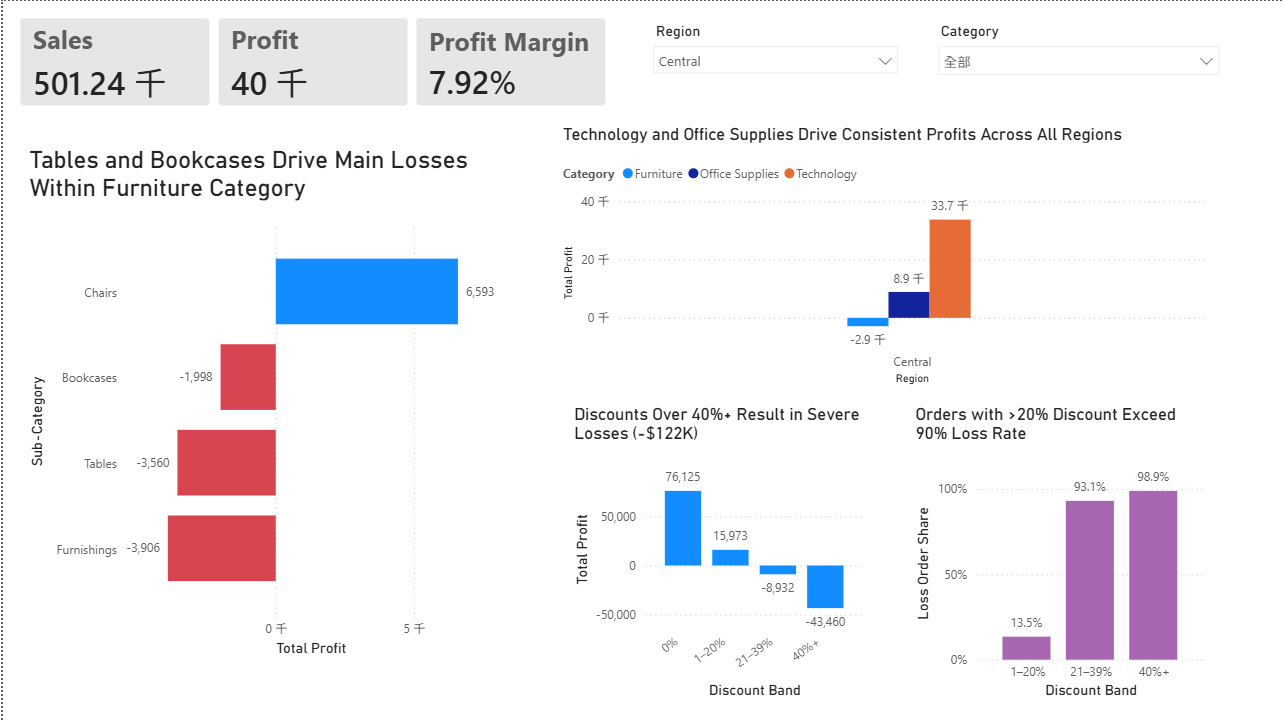

Layout of this report page (visuals, bound fields, positions):
{"tool":"powerbi","page":{"name":"第 2 頁","canvas":[1280,720],"ordinal":0},"visuals":[{"type":"columnChart","title":"Discounts Over 40%+ Result in Severe Losses (-$122K)","fields":{"Category":["SampleSuperstore.Discount Band"],"Y":["Sum(SampleSuperstore.Profit)"]},"box":[532.5,402.5,300,300],"z":0},{"type":"columnChart","title":"Orders with >20% Discount Exceed 90% Loss Rate","fields":{"Category":["SampleSuperstore.Discount Band"],"Y":["SampleSuperstore.Loss Order Share"]},"box":[881.2,402.5,300,300],"z":1000},{"type":"cardVisual","fields":{"Data":["Sum(SampleSuperstore.Sales)","Sum(SampleSuperstore.Profit)","SampleSuperstore.Profit Margin"]},"box":[0,0,620,122.5],"z":2000},{"type":"clusteredColumnChart","title":"Technology and Office Supplies Drive Consistent Profits Across All Regions","fields":{"Category":["SampleSuperstore.Region"],"Y":["Sum(SampleSuperstore.Profit)"],"Series":["SampleSuperstore.Category"]},"box":[555,122.5,652.5,266.2],"z":3000},{"type":"barChart","title":"Tables and Bookcases Drive Main Losses Within Furniture Category","fields":{"Category":["SampleSuperstore.Sub-Category"],"Y":["Sum(SampleSuperstore.Profit)"]},"box":[21.2,145,488.8,515],"z":3001},{"type":"slicer","fields":{"Values":["SampleSuperstore.Region"]},"box":[640,16.2,265,90],"z":3002},{"type":"slicer","fields":{"Values":["SampleSuperstore.Category"]},"box":[925,16.2,301.2,77.5],"z":3003}]}

Visuals, with their boxes in screenshot pixels (x1, y1, x2, y2), scaled from the page's 1280x720 canvas onto the 1283x721 screenshot:
"Discounts Over 40%+ Result in Severe Losses (-$122K)" columnChart: {"x1": 534, "y1": 403, "x2": 834, "y2": 703}
"Orders with >20% Discount Exceed 90% Loss Rate" columnChart: {"x1": 883, "y1": 403, "x2": 1184, "y2": 703}
cardVisual - Sum(SampleSuperstore.Sales) x Sum(SampleSuperstore.Profit): {"x1": 0, "y1": 0, "x2": 621, "y2": 123}
"Technology and Office Supplies Drive Consistent Profits Across All Regions" clusteredColumnChart: {"x1": 556, "y1": 123, "x2": 1210, "y2": 389}
"Tables and Bookcases Drive Main Losses Within Furniture Category" barChart: {"x1": 21, "y1": 145, "x2": 511, "y2": 661}
slicer - SampleSuperstore.Region: {"x1": 642, "y1": 16, "x2": 907, "y2": 106}
slicer - SampleSuperstore.Category: {"x1": 927, "y1": 16, "x2": 1229, "y2": 94}
